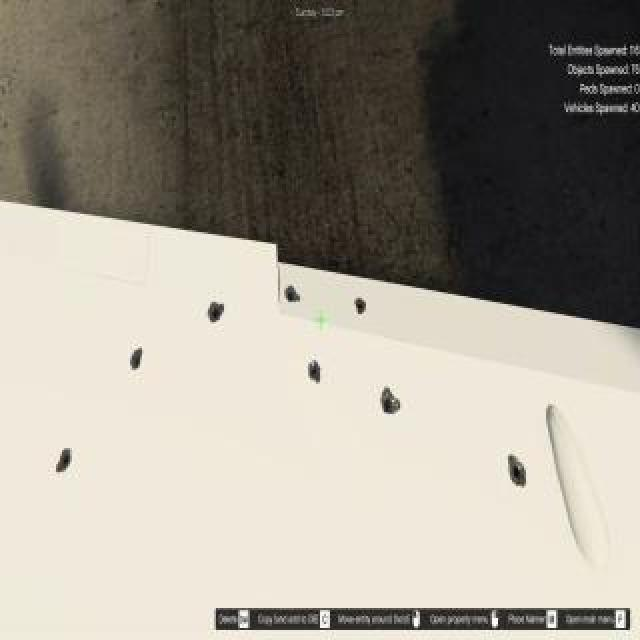crack: (378, 384, 404, 418), (508, 452, 530, 492), (55, 446, 75, 478), (206, 300, 228, 326), (284, 282, 304, 308), (308, 358, 324, 388), (354, 294, 370, 320), (130, 347, 144, 373)
